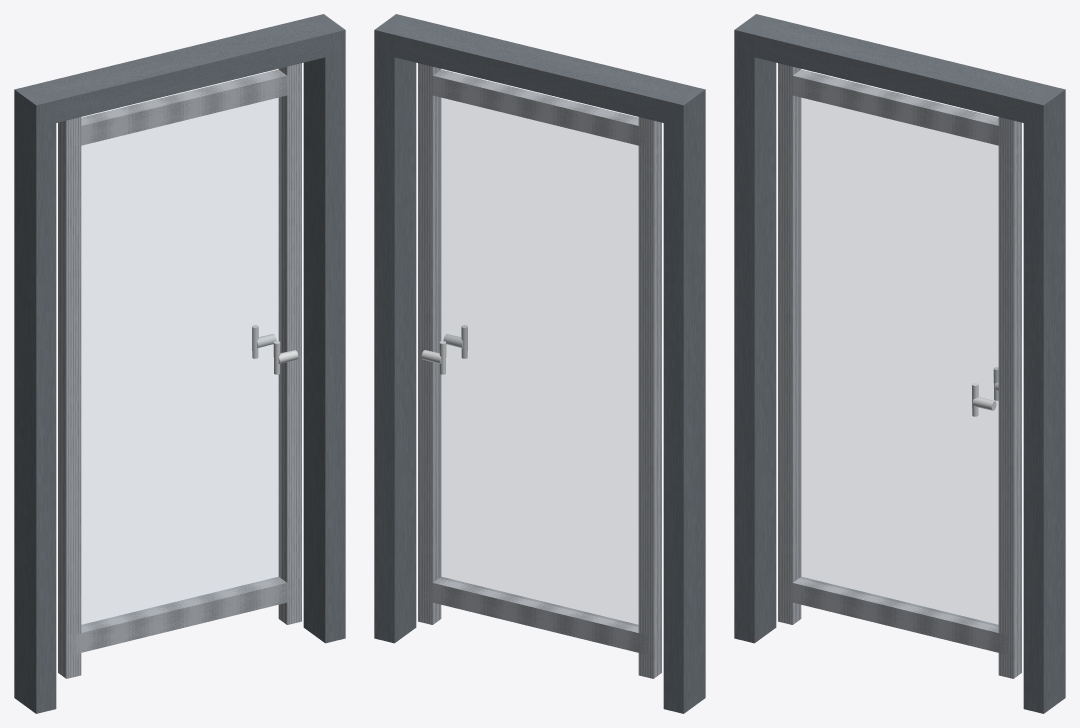
File: door_meeting_glass01.glb
3 renders of one model, left to right at view 1: azimuth 30°, elevation 25°; view 2: azimuth 150°, elevation 25°; view 3: azimuth 330°, elevation 25°, orthographic.
Visible parts, largest first — view 1: glazing, frame, leaf, handle; view 2: glazing, frame, leaf, handle; view 3: glazing, frame, leaf, handle.
Boxes of the visible parts, x1,y1,x2,y2 form: glazing: (81,97,281,625); frame: (14,14,345,713); leaf: (58,63,301,678); handle: (252,325,298,374); glazing: (438,97,638,625); frame: (374,14,705,713); leaf: (418,63,661,678); handle: (421,325,467,374); glazing: (798,97,998,625); frame: (734,14,1065,713); leaf: (778,63,1021,678); handle: (972,367,998,416).
Bounding box in the file's own units: 1.15 × 2.16 × 0.174.
Materials: 4 (2 with a texture image).
